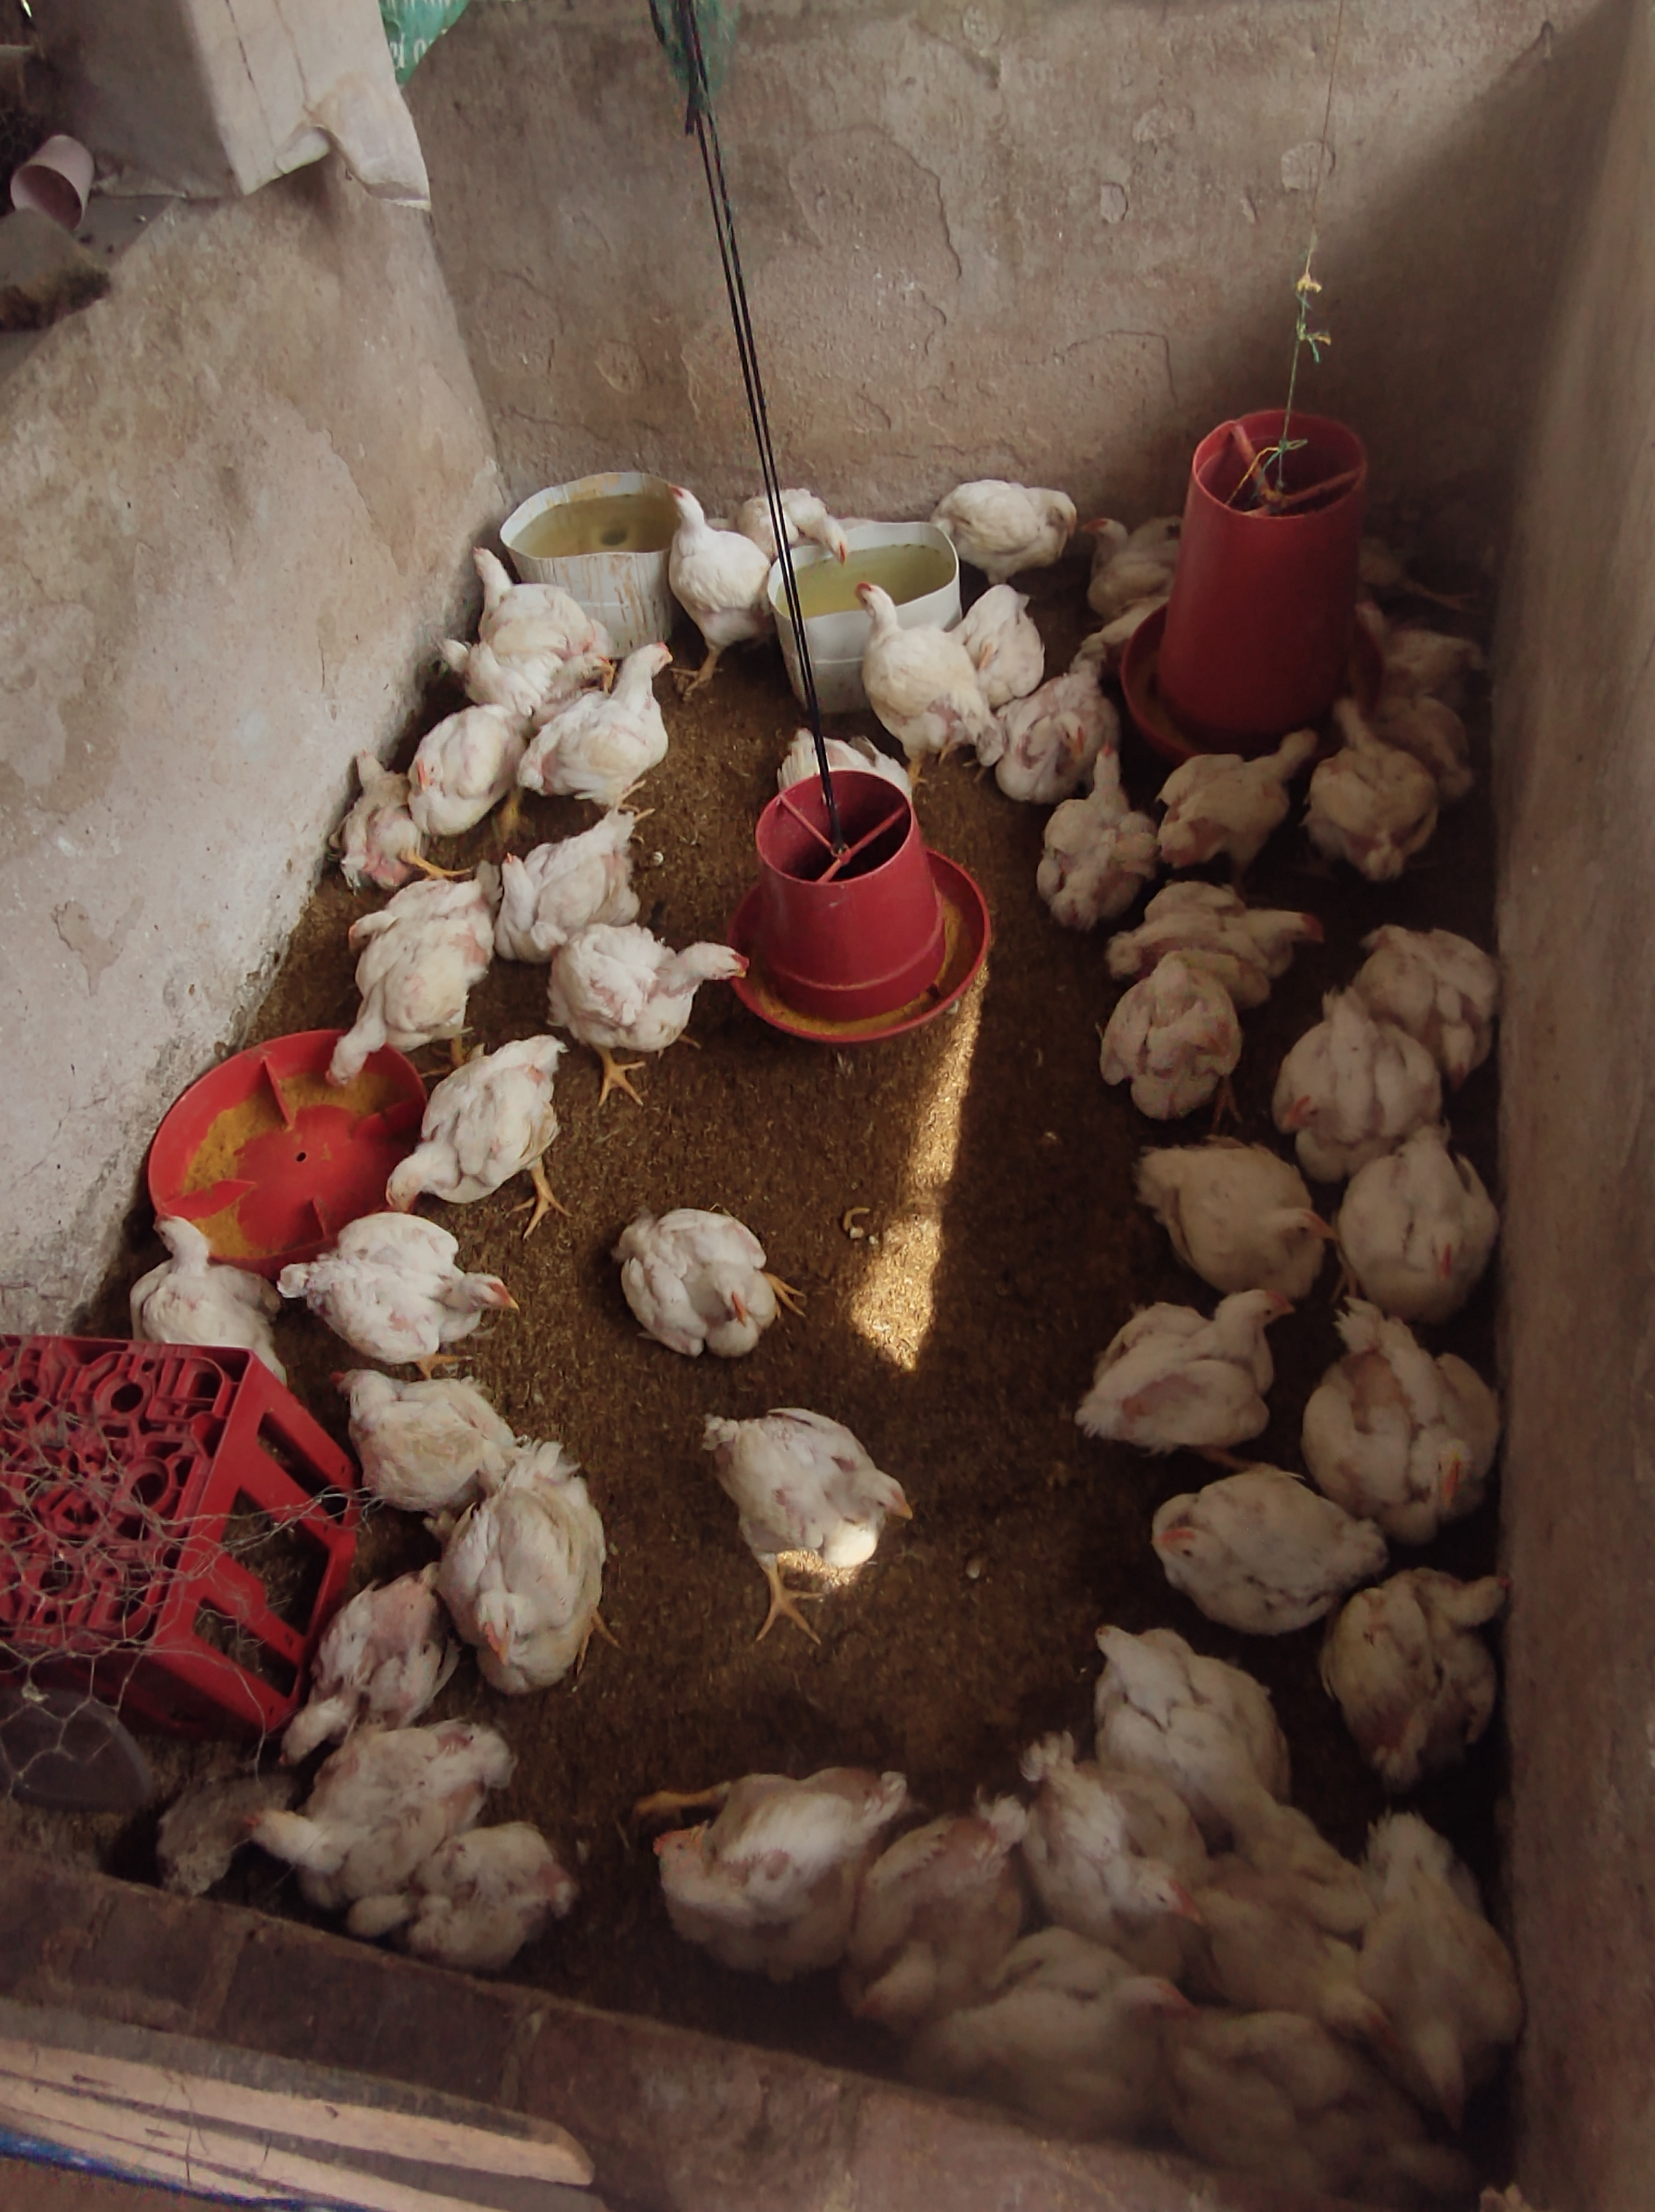Pollos: (1356, 1809, 1502, 2111), (659, 1779, 894, 1963), (706, 1400, 918, 1593), (859, 1810, 1029, 2026), (1092, 1619, 1288, 1788), (1099, 1282, 1300, 1442), (605, 1200, 807, 1360), (1337, 1334, 1505, 1523), (1041, 1744, 1196, 1948), (1346, 1565, 1512, 1749), (384, 1049, 558, 1219), (302, 1216, 523, 1349), (452, 1485, 605, 1668), (1149, 1141, 1346, 1280), (325, 890, 464, 1087), (847, 583, 994, 763), (1271, 1017, 1441, 1162), (1151, 1476, 1337, 1609), (332, 1365, 539, 1483), (1353, 920, 1504, 1075), (1311, 696, 1446, 868), (1156, 729, 1316, 873), (282, 1593, 414, 1765), (233, 1767, 462, 1866), (1359, 1137, 1490, 1303), (553, 932, 754, 1036), (143, 1217, 282, 1363), (344, 1862, 555, 1958), (1114, 965, 1243, 1109), (655, 482, 761, 645), (575, 631, 685, 788), (1052, 744, 1149, 908), (433, 624, 612, 708), (490, 828, 626, 937), (412, 715, 509, 838), (940, 478, 1080, 563), (1200, 887, 1330, 977), (332, 743, 417, 880), (462, 541, 579, 635), (1080, 504, 1177, 610), (1010, 664, 1093, 786), (768, 483, 864, 569)
